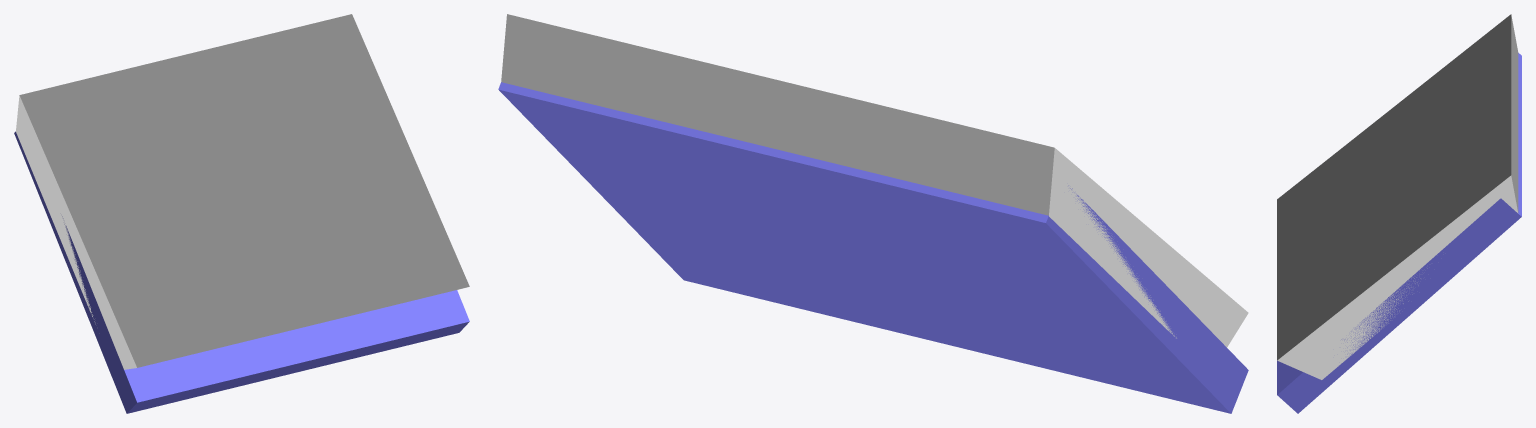
Rendered from SM_Dummy_Half_Roof.fbx.
The picture shows the model from 3 angles, left to right: view 1: azimuth 30°, elevation 25°; view 2: azimuth 150°, elevation 25°; view 3: azimuth 270°, elevation 25°; orthographic projection. The views are drawn at different scales.
Parts seen in each view (by area): view 1: SM_Dummy_Half_Roof_ConvexHulls, SM_Dummy_Half_Roof; view 2: SM_Dummy_Half_Roof, SM_Dummy_Half_Roof_ConvexHulls; view 3: SM_Dummy_Half_Roof_ConvexHulls, SM_Dummy_Half_Roof.
Boxes of the visible parts, x1,y1,x2,y2 form: SM_Dummy_Half_Roof_ConvexHulls: [16, 14, 469, 369]; SM_Dummy_Half_Roof: [14, 131, 469, 413]; SM_Dummy_Half_Roof: [498, 82, 1248, 413]; SM_Dummy_Half_Roof_ConvexHulls: [501, 14, 1248, 347]; SM_Dummy_Half_Roof_ConvexHulls: [1277, 14, 1518, 379]; SM_Dummy_Half_Roof: [1277, 53, 1521, 413].
Size of the model in its own units: 300 by 192 by 207.
2 materials, 1 textured.
